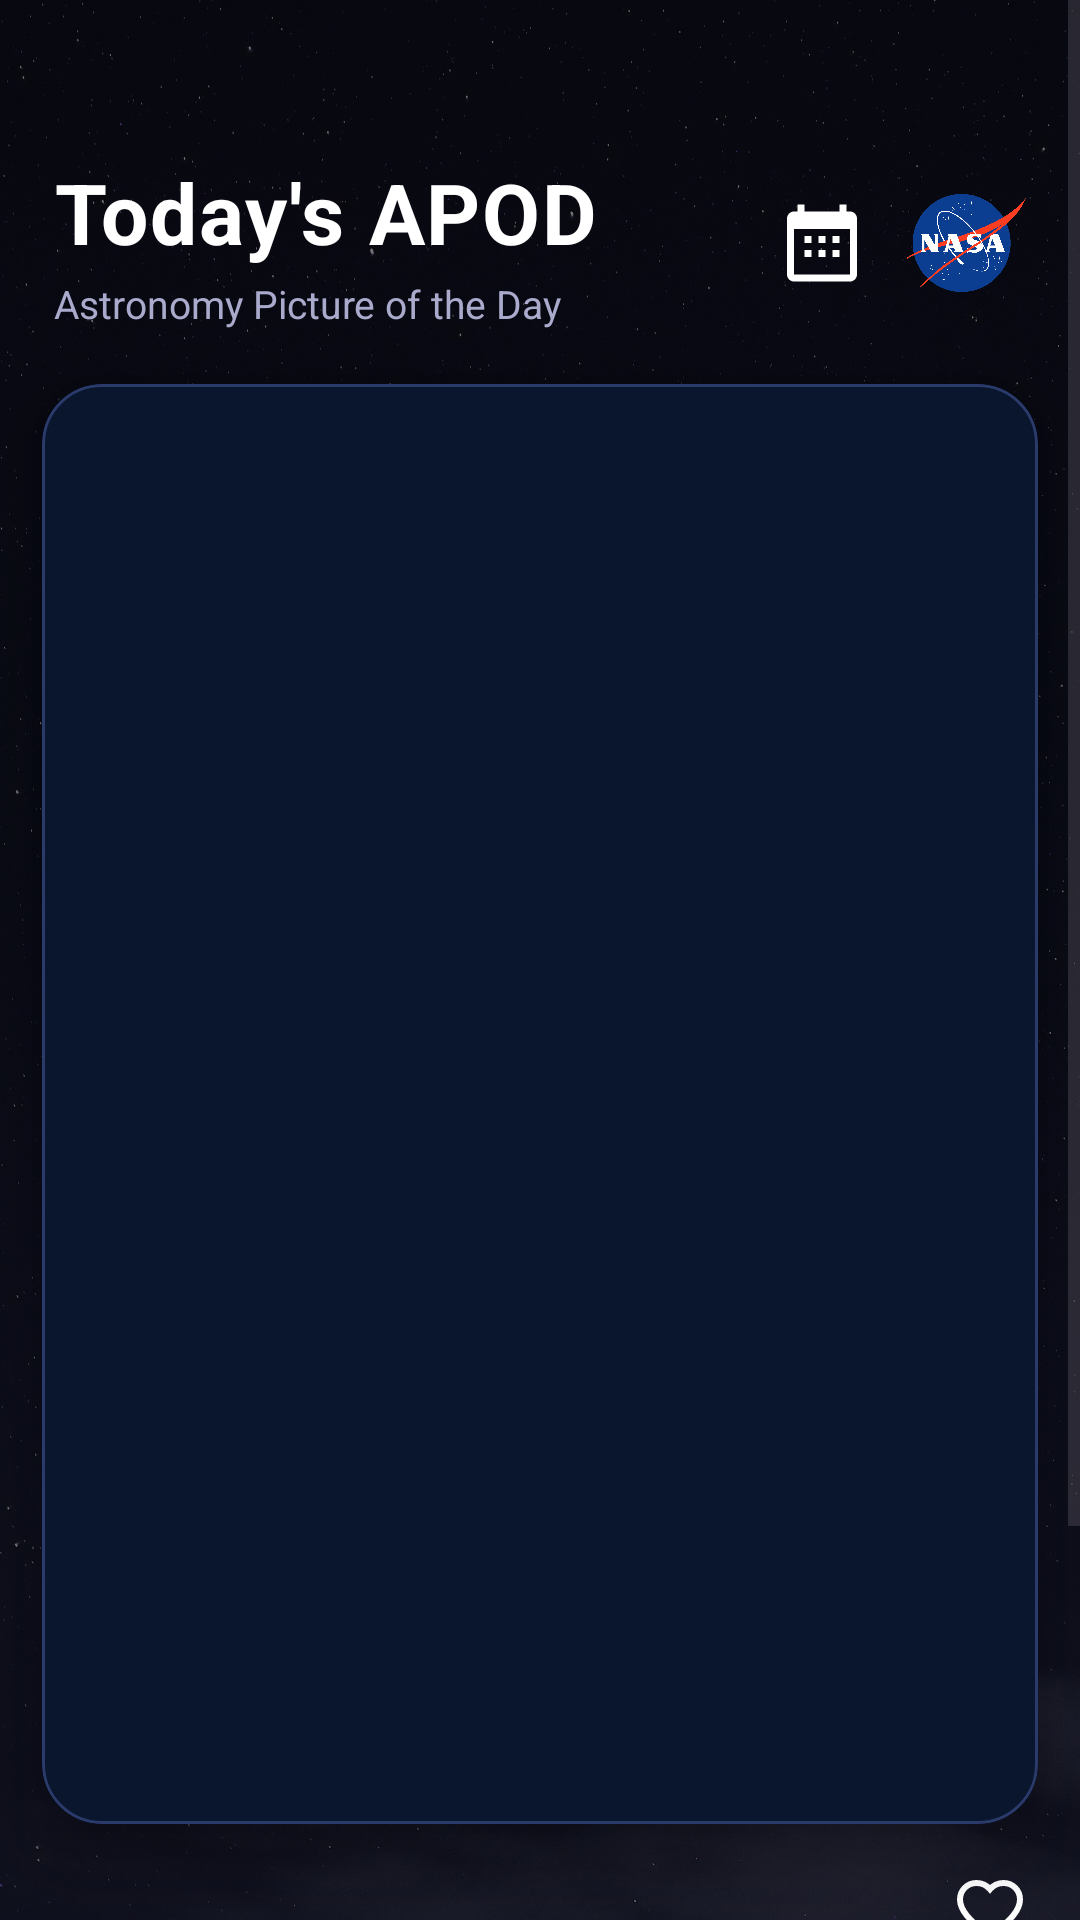

Locate icon controls on the screen. Image size 1080 × 1920, boxes as (x1, y1, x2, y2).
Search by date: (780, 204, 857, 283)
